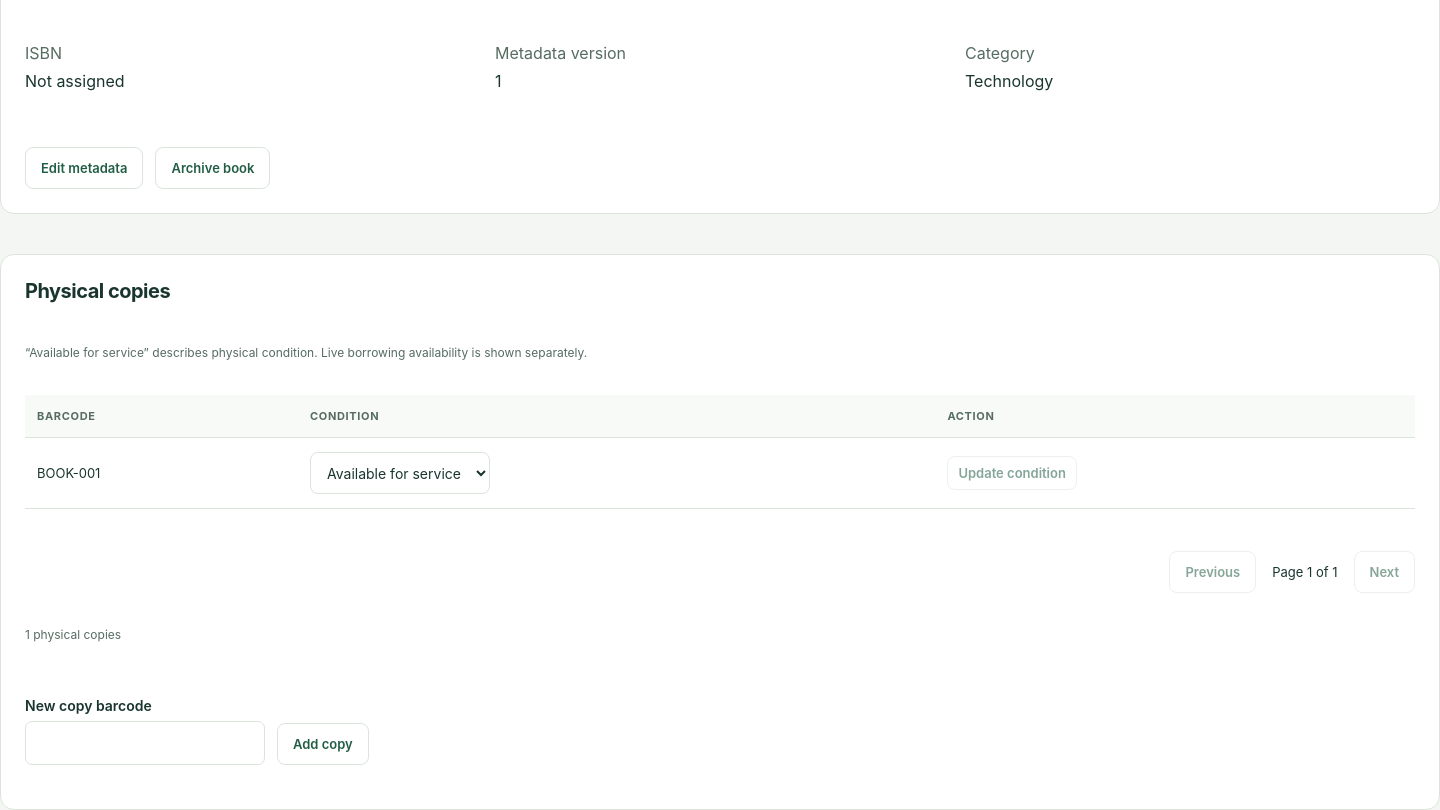
Scenario: catalog and copy screens › refreshes live availability after a copy change while retaining metadata on 304
(page scrolled)
Select "Maintenance" in the dropdown at (400, 473), box [310,452,490,494]
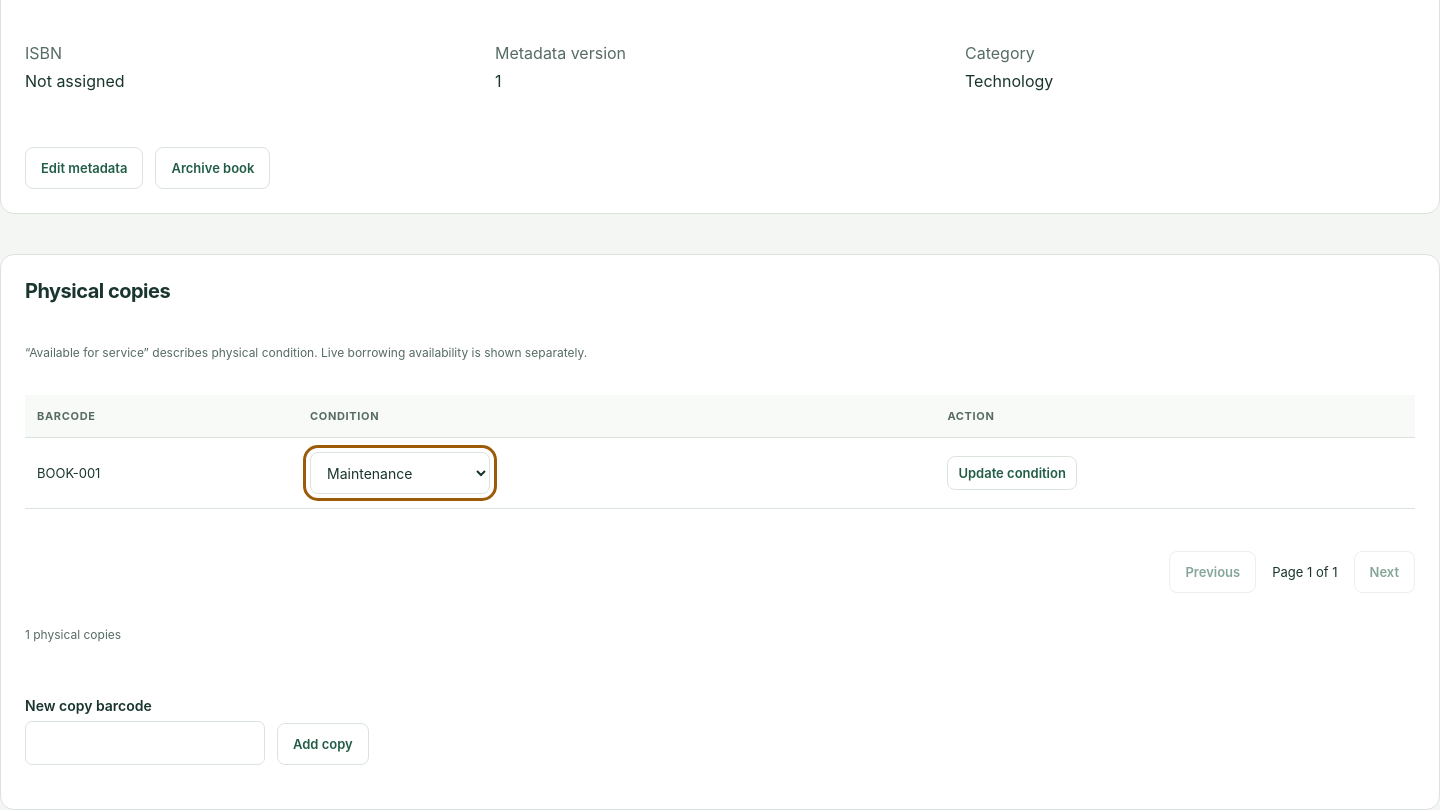
Click the button "Update condition" at (1012, 473), box [947,456,1077,490]
(page scrolled)
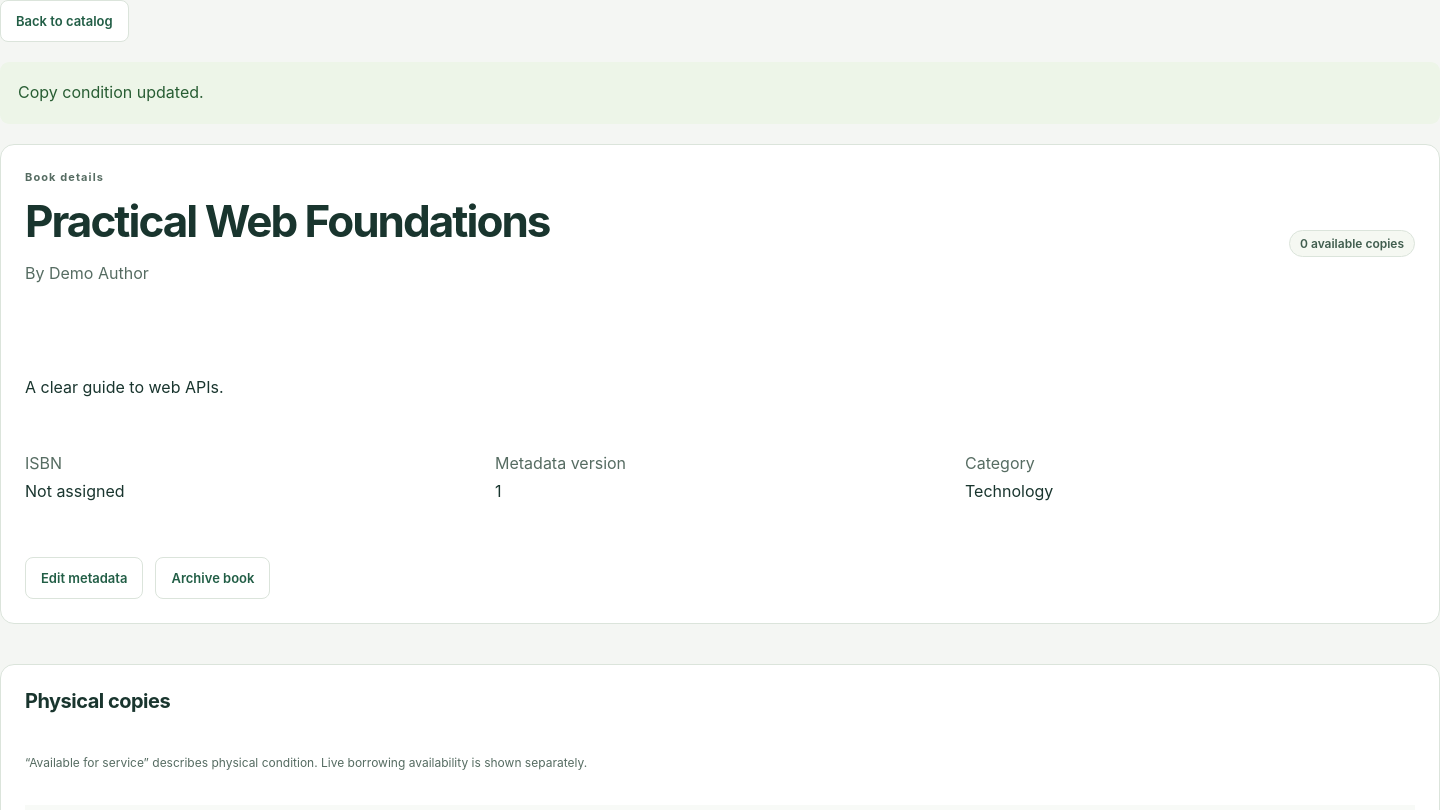
Expected: the heading "Practical Web Foundations" is shown, [25,194,550,248]
Expected: the text "0 available copies" is shown, [1289,230,1415,257]
